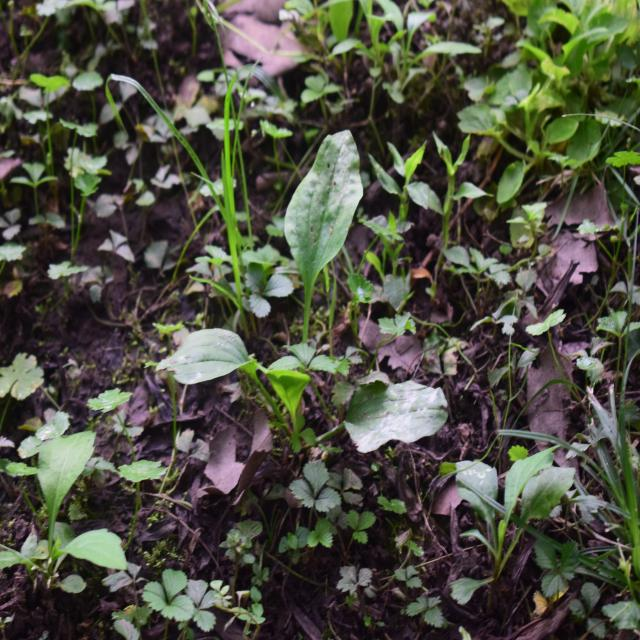plantain: (181, 121, 431, 463)
